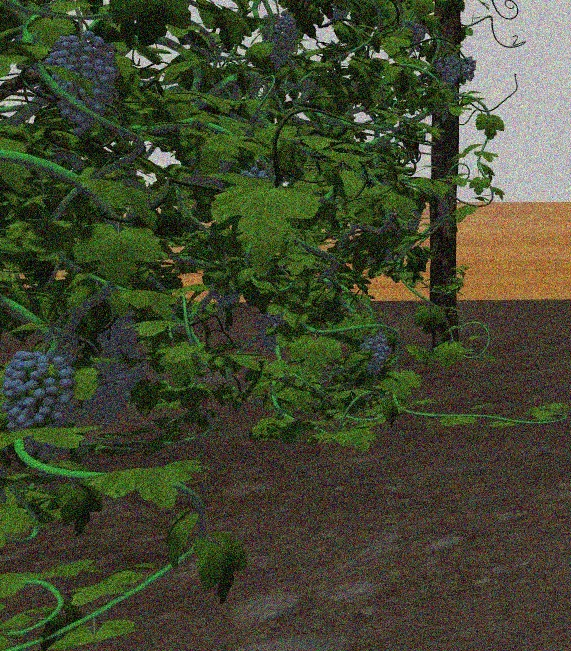grape: (1, 350, 76, 462), (45, 31, 120, 133), (84, 361, 129, 425), (260, 10, 299, 69), (101, 314, 138, 360), (360, 331, 391, 373), (124, 349, 149, 397), (257, 312, 280, 355), (436, 57, 460, 85), (459, 56, 477, 82)
